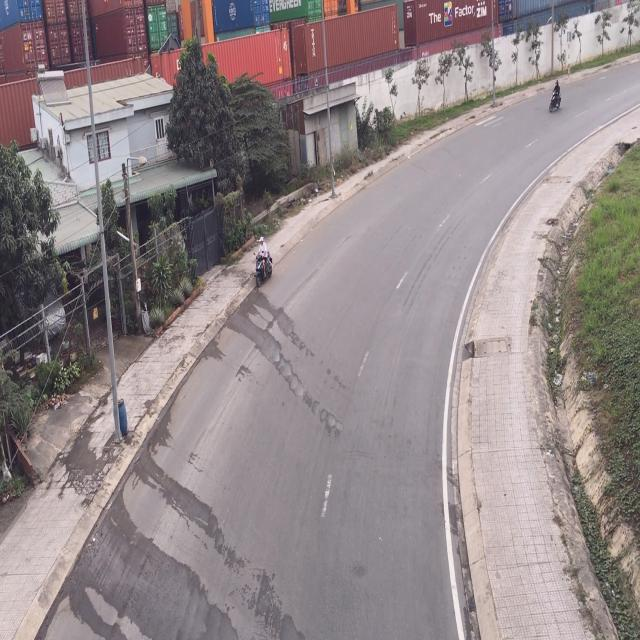motorbike: (254, 237, 273, 288), (550, 80, 562, 113)
